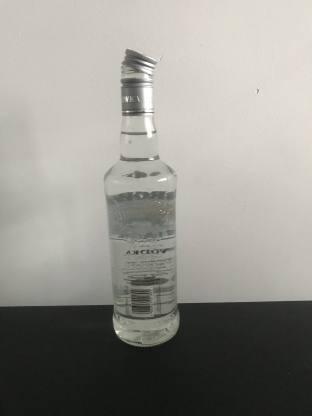nakretka: (119, 46, 158, 116)
